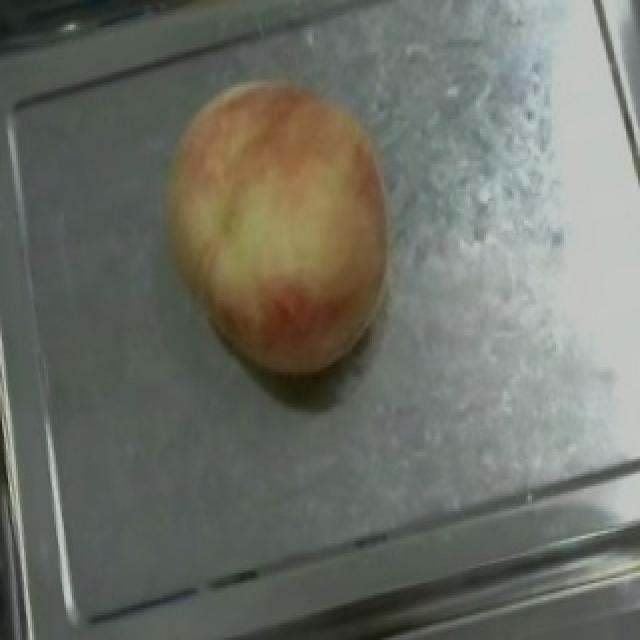Fruit: (126, 49, 438, 412)
